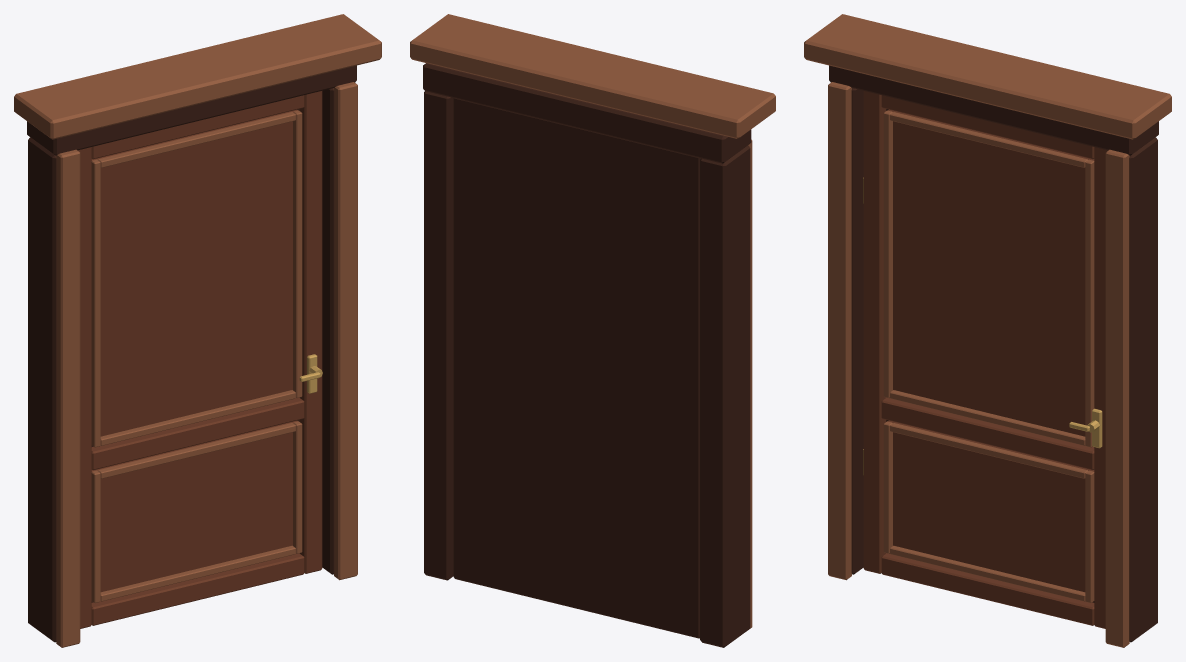
The model's file is door_09.glb.
3 views of the same model, side by side, from view 1: azimuth 30°, elevation 25°; view 2: azimuth 150°, elevation 25°; view 3: azimuth 330°, elevation 25° (orthographic).
Parts seen in each view (by area): view 1: Panel_0_1_Field, Panel_0_0_Field, Cornice, Jamb__1, Jamb_moulding__1, Jamb_moulding_1, Leaf_stile_0_1, Jamb_1, Leaf_stile_0__1, Lintel, Leaf_crossrail_0_0_048, Leaf_crossrail_0_0_846 (+9 smaller); view 2: Leaf_0, Jamb__1, Cornice, Jamb_1, Lintel, Jamb_moulding__1; view 3: Panel_0_1_Field, Panel_0_0_Field, Cornice, Jamb_1, Jamb_moulding_1, Jamb_moulding__1, Leaf_stile_0__1, Jamb__1, Lintel, Leaf_stile_0_1, Leaf_crossrail_0_0_048, Leaf_crossrail_0_0_846 (+9 smaller).
Part boxes in pixels (bbox=[...]): Panel_0_1_Field: bbox=[91, 109, 297, 436]; Panel_0_0_Field: bbox=[91, 420, 297, 592]; Cornice: bbox=[14, 14, 381, 139]; Jamb__1: bbox=[28, 137, 56, 642]; Jamb_moulding__1: bbox=[56, 149, 80, 647]; Jamb_moulding_1: bbox=[334, 82, 357, 580]; Leaf_stile_0_1: bbox=[299, 91, 322, 573]; Jamb_1: bbox=[322, 88, 334, 574]; Leaf_stile_0__1: bbox=[77, 147, 91, 628]; Lintel: bbox=[27, 65, 356, 155]; Leaf_crossrail_0_0_048: bbox=[91, 553, 304, 625]; Leaf_crossrail_0_0_846: bbox=[91, 397, 304, 469]; Leaf_0: bbox=[453, 98, 700, 638]; Jamb__1: bbox=[700, 145, 750, 647]; Cornice: bbox=[410, 14, 775, 138]; Jamb_1: bbox=[424, 91, 453, 580]; Lintel: bbox=[423, 63, 751, 163]; Jamb_moulding__1: bbox=[748, 139, 752, 629]; Panel_0_1_Field: bbox=[888, 109, 1094, 436]; Panel_0_0_Field: bbox=[888, 420, 1094, 592]; Cornice: bbox=[804, 14, 1171, 139]; Jamb_1: bbox=[1129, 137, 1157, 642]; Jamb_moulding_1: bbox=[1105, 149, 1129, 647]; Jamb_moulding__1: bbox=[828, 82, 851, 580]; Leaf_stile_0__1: bbox=[863, 91, 886, 573]; Jamb__1: bbox=[851, 88, 863, 574]; Lintel: bbox=[829, 65, 1158, 155]; Leaf_stile_0_1: bbox=[1094, 147, 1108, 628]; Leaf_crossrail_0_0_048: bbox=[881, 553, 1094, 625]; Leaf_crossrail_0_0_846: bbox=[881, 397, 1094, 469].
Size of the model in its own units: 1.78 by 2.75 by 0.37.
